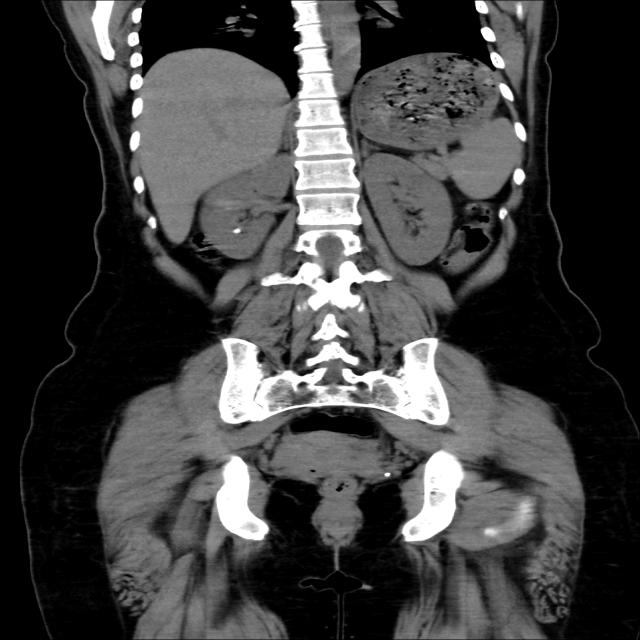kidneystone: (233, 228, 242, 234)
